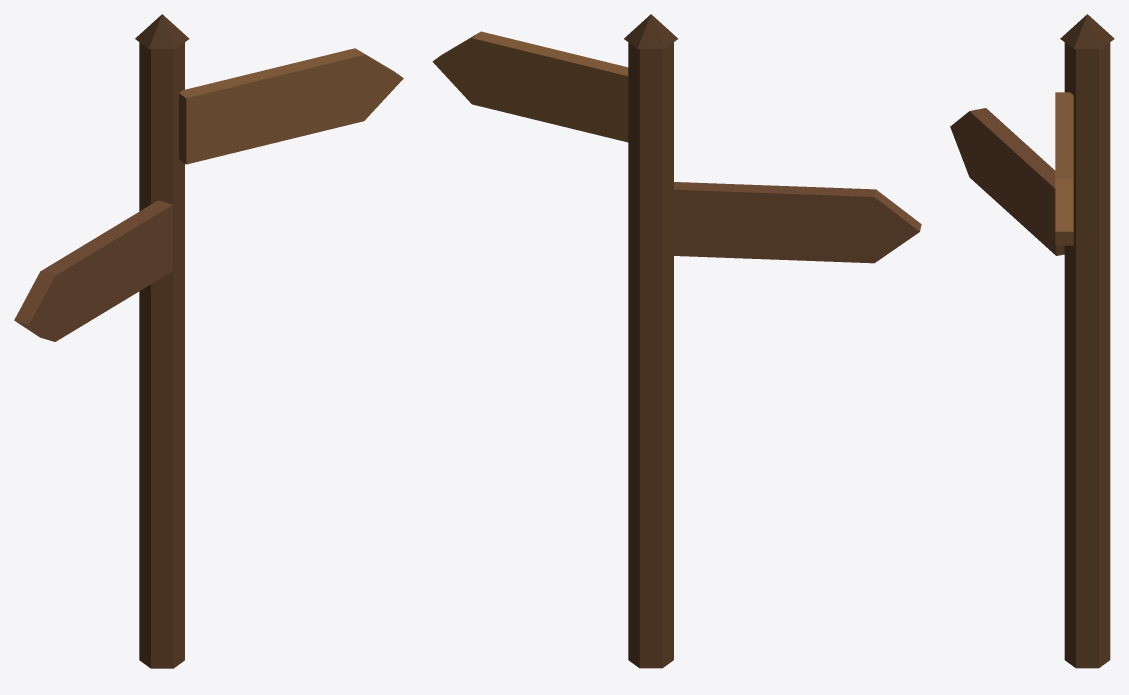
The model's file is signpost.glb.
The picture shows the model from 3 angles, left to right: view 1: azimuth 30°, elevation 25°; view 2: azimuth 150°, elevation 25°; view 3: azimuth 270°, elevation 25°; orthographic projection.
Visible parts, largest first — view 1: Signpost; view 2: Signpost; view 3: Signpost.
Part boxes in pixels (x1,y1,x2,y2): Signpost: [14, 14, 403, 668]; Signpost: [432, 14, 921, 668]; Signpost: [950, 14, 1114, 680].
Bounding box in the file's own units: 1.1 × 1.61 × 0.3606.
